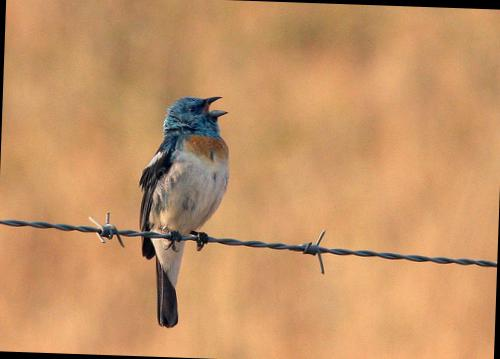bird: (126, 83, 240, 334)
